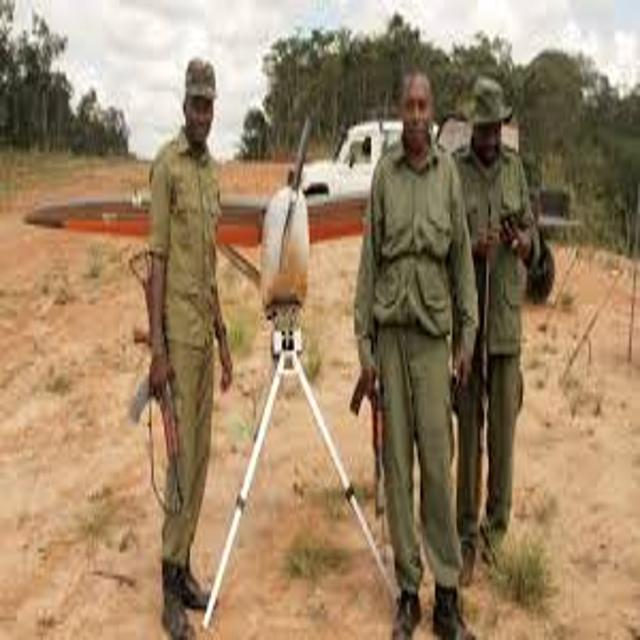gun: (94, 229, 234, 540), (331, 286, 436, 587)
ranger: (298, 48, 544, 640), (78, 46, 294, 640), (378, 58, 575, 600)
